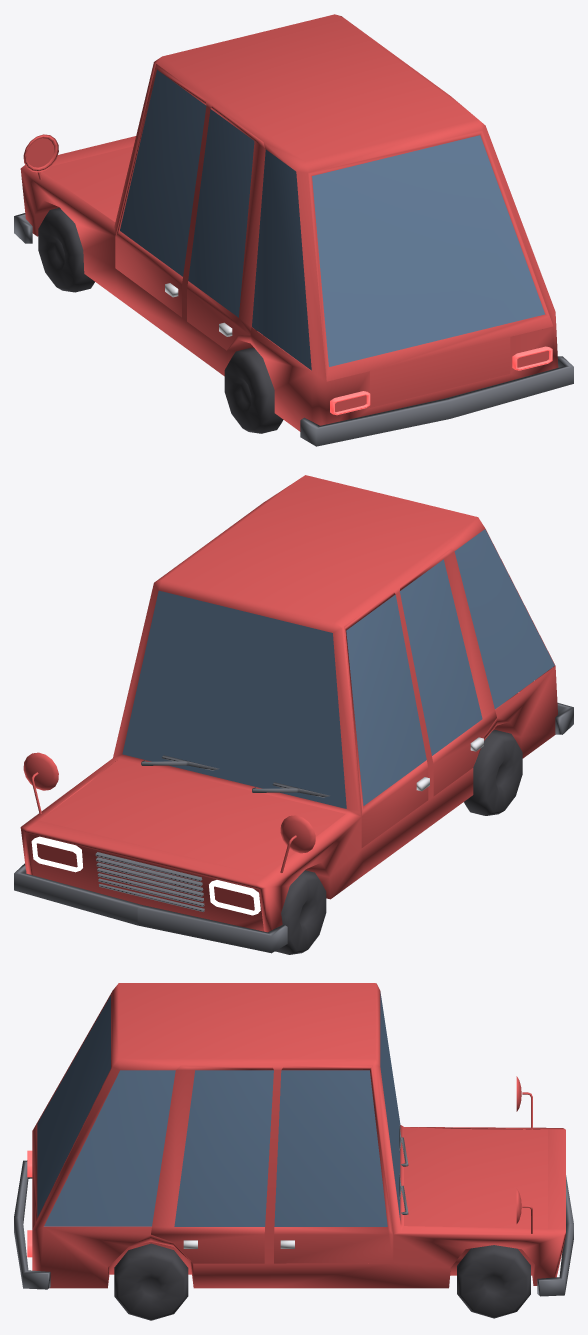
Rendered from cv-estate.glb.
3 views of the same model, one above another, from view 1: azimuth 30°, elevation 25°; view 2: azimuth 150°, elevation 25°; view 3: azimuth 270°, elevation 25° (orthographic). The views are drawn at different scales.
Visible parts, largest first — view 1: CarMesh, WIndow, ID454, Window.3, Window.2, WindowBack, BumperBack, ID373, WheelRL, ID400, Hood, WheelFL (+1 smaller); view 2: CarMesh, WindowFront, Hood, Window.3, Window.2, WindowBack, BumperFront, ID373, ID400, WheelRL, Grille, WheelFL (+6 smaller); view 3: CarMesh, Window.4, Hood, Window, WindowBack, ID346, WIndow, ID427, WheelRR, WheelRR.2, WindowFront, BumperBack (+2 smaller).
Part boxes in pixels (box(x1,y1,x2,y2)): CarMesh: box(20, 14, 558, 431); WIndow: box(312, 135, 544, 366); ID454: box(308, 130, 553, 407); Window.3: box(120, 70, 206, 276); Window.2: box(188, 109, 254, 317); WindowBack: box(252, 149, 311, 370); BumperBack: box(300, 356, 573, 446); ID373: box(187, 105, 265, 350); WheelRL: box(224, 347, 283, 433); ID400: box(115, 64, 206, 317); Hood: box(42, 146, 133, 221); WheelFL: box(38, 207, 94, 292); CarMesh: box(20, 475, 557, 932); WindowFront: box(122, 590, 346, 808); Hood: box(39, 758, 345, 875); Window.3: box(346, 594, 426, 805); Window.2: box(400, 559, 482, 755); WindowBack: box(454, 529, 554, 709); BumperFront: box(14, 863, 287, 953); ID373: box(400, 548, 496, 796); ID400: box(344, 591, 428, 847); WheelRL: box(464, 730, 522, 815); Grille: box(95, 852, 204, 911); WheelFL: box(275, 870, 326, 954); CarMesh: box(32, 983, 565, 1288); Window.4: box(274, 1070, 387, 1226); Hood: box(404, 1127, 547, 1228); Window: box(174, 1070, 273, 1226); WindowBack: box(44, 1070, 175, 1226); ID346: box(151, 1065, 273, 1263); WIndow: box(37, 995, 110, 1217); ID427: box(274, 1065, 393, 1263); WheelRR: box(114, 1243, 188, 1320); WheelRR.2: box(457, 1245, 530, 1318); WindowFront: box(380, 991, 400, 1219); BumperBack: box(14, 1160, 50, 1289).
Bounding box in the file's own units: 2.18 × 1.96 × 4.04.
